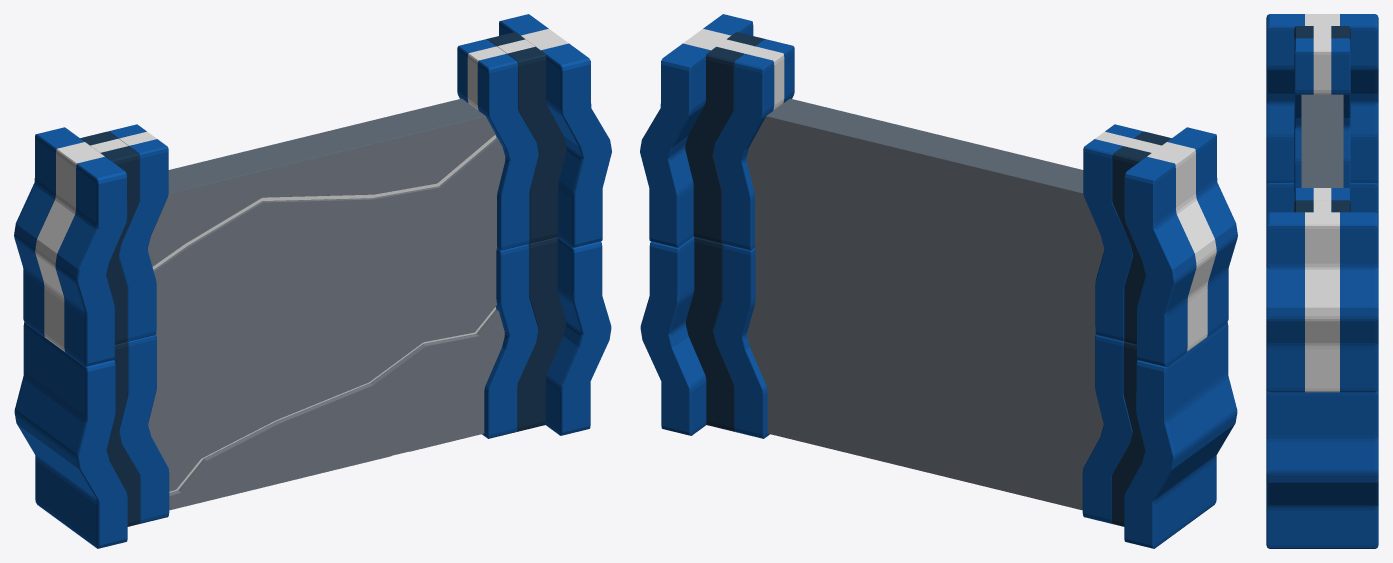
The model's file is Obstacle.fbx.
3 views of the same model, side by side, from view 1: azimuth 30°, elevation 25°; view 2: azimuth 150°, elevation 25°; view 3: azimuth 270°, elevation 25° (orthographic). The views are drawn at different scales.
Parts seen in each view (by area): view 1: MDL_Door, MDL_Obstacle.001, MDL_Obstacle; view 2: MDL_Door, MDL_Obstacle.001, MDL_Obstacle; view 3: MDL_Obstacle, MDL_Obstacle.001, MDL_Door.
Part boxes in pixels (<box>): MDL_Door: <box>148,98,505,510</box>; MDL_Obstacle.001: <box>14,124,169,548</box>; MDL_Obstacle: <box>457,14,611,438</box>; MDL_Door: <box>746,98,1103,510</box>; MDL_Obstacle.001: <box>1082,124,1237,548</box>; MDL_Obstacle: <box>640,14,794,438</box>; MDL_Obstacle: <box>1266,188,1378,548</box>; MDL_Obstacle.001: <box>1266,14,1378,215</box>; MDL_Door: <box>1301,94,1343,187</box>.
Size of the model in its own units: 654 by 433 by 136.
